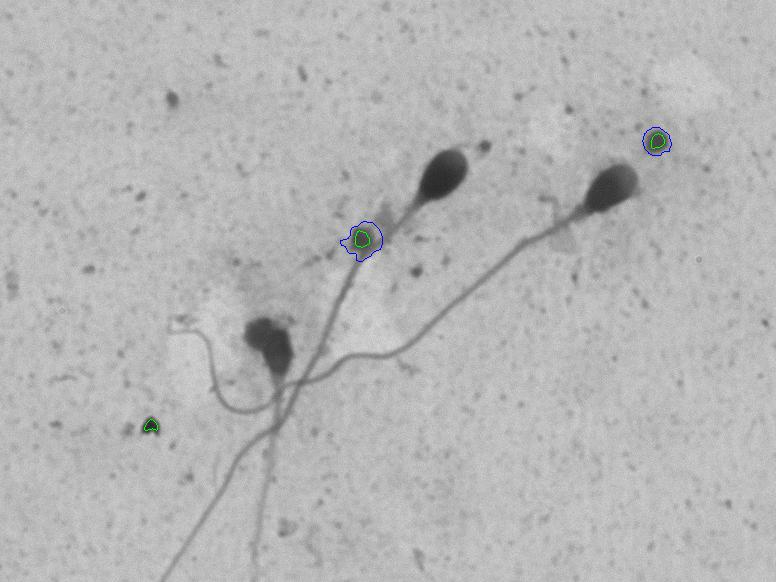Normal: (149, 107, 517, 573), (153, 149, 653, 440)
